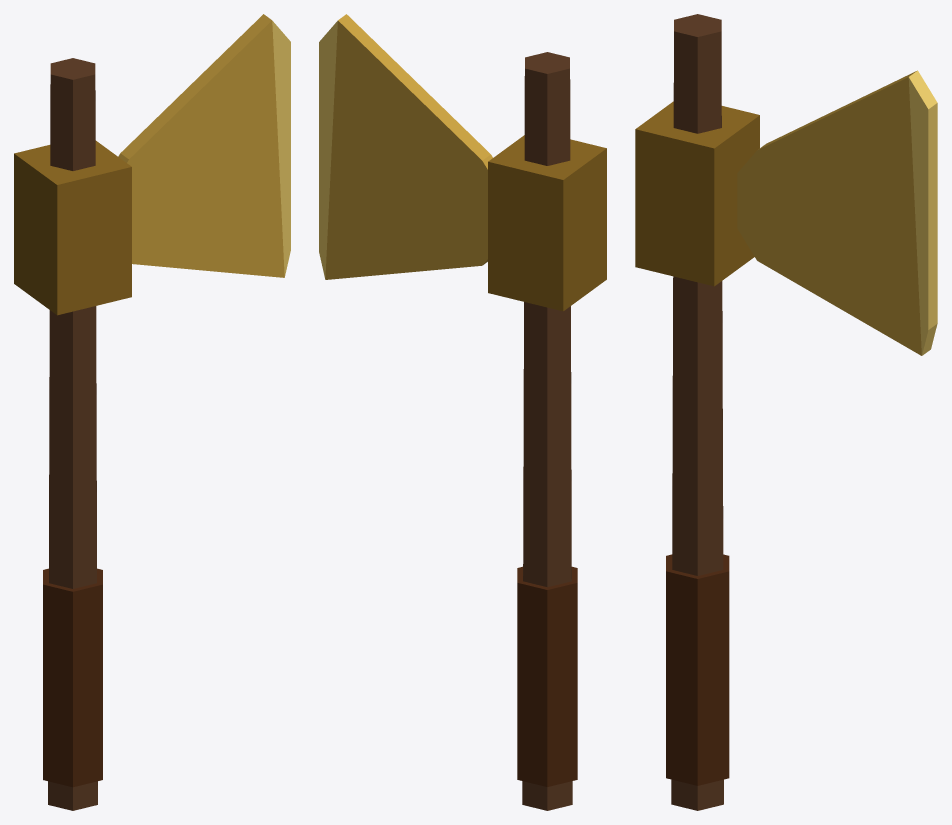
The model's file is wpn_melee_1h_5.glb.
3 views of the same model, side by side, from view 1: azimuth 30°, elevation 25°; view 2: azimuth 150°, elevation 25°; view 3: azimuth 330°, elevation 25° (orthographic). The views are drawn at different scales.
Parts seen in each view (by area): view 1: wpn_melee_1h_5; view 2: wpn_melee_1h_5; view 3: wpn_melee_1h_5.
Part boxes in pixels (x1,y1,x2,y2): wpn_melee_1h_5: [14, 14, 290, 810]; wpn_melee_1h_5: [319, 14, 606, 810]; wpn_melee_1h_5: [635, 14, 937, 810].
Size of the model in its own units: 0.205 by 0.56 by 0.06.
